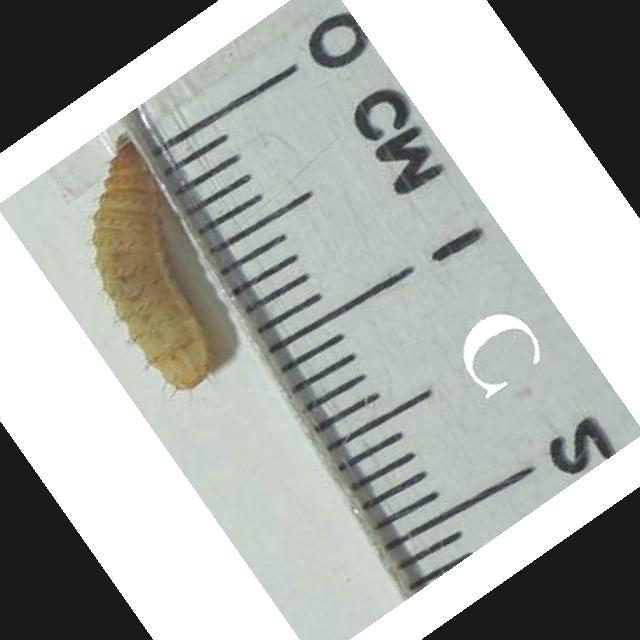Maggot: (91, 135, 212, 387)
